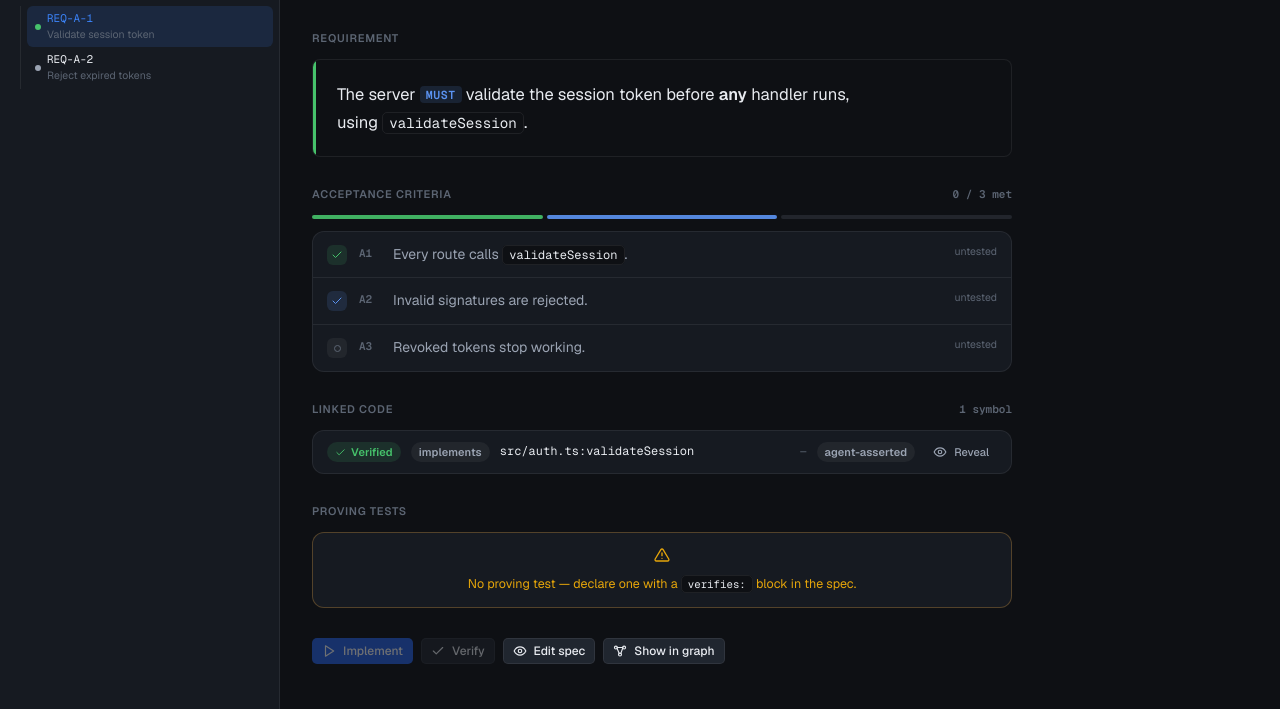
Test case: SpecEditor (REQ-DESKTOP-006…011) › 008.A1/A2: status is read-only — transition pills + lock, no user-operable control
Click the button "Edit spec".
click(549, 651)  # box x1=503 y1=638 x2=595 y2=664
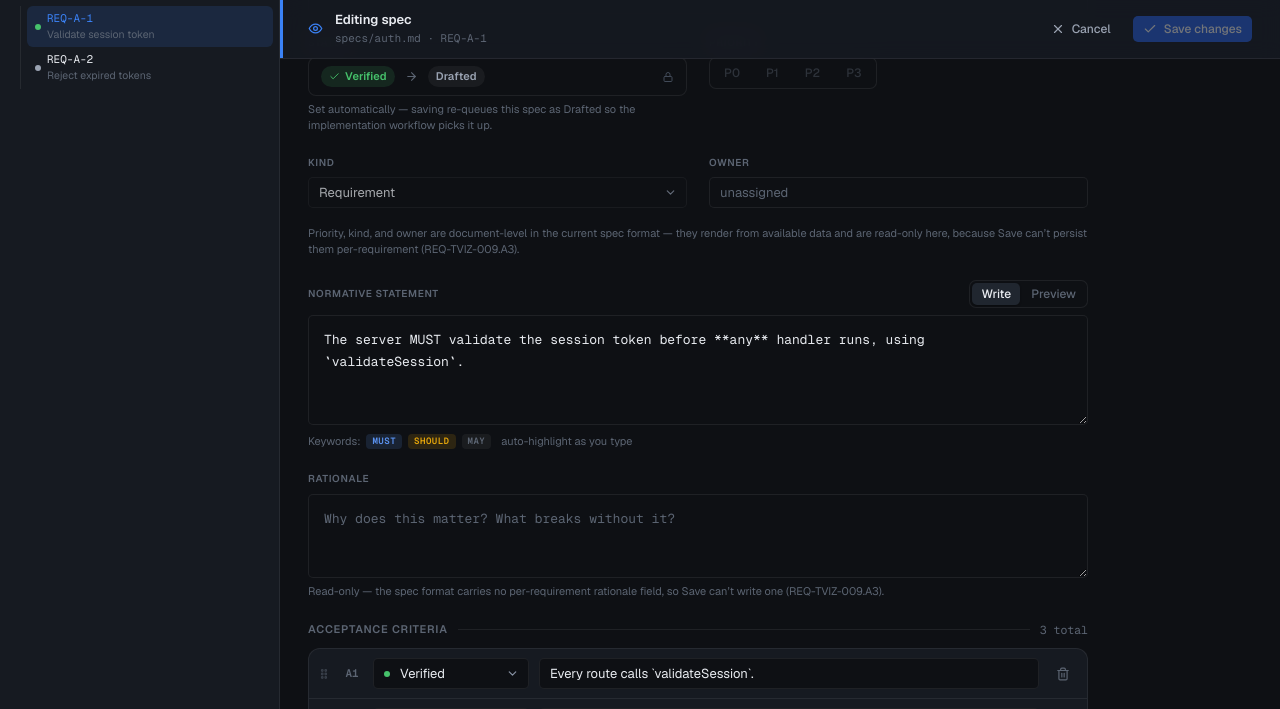
Expected: the text "Verified" is shown, x1=321 y1=66 x2=395 y2=87
Now the element with class "sp-status-auto" is shown, box x1=308 y1=58 x2=687 y2=96
Now the text "Drafted" is shown, box x1=428 y1=66 x2=485 y2=87
